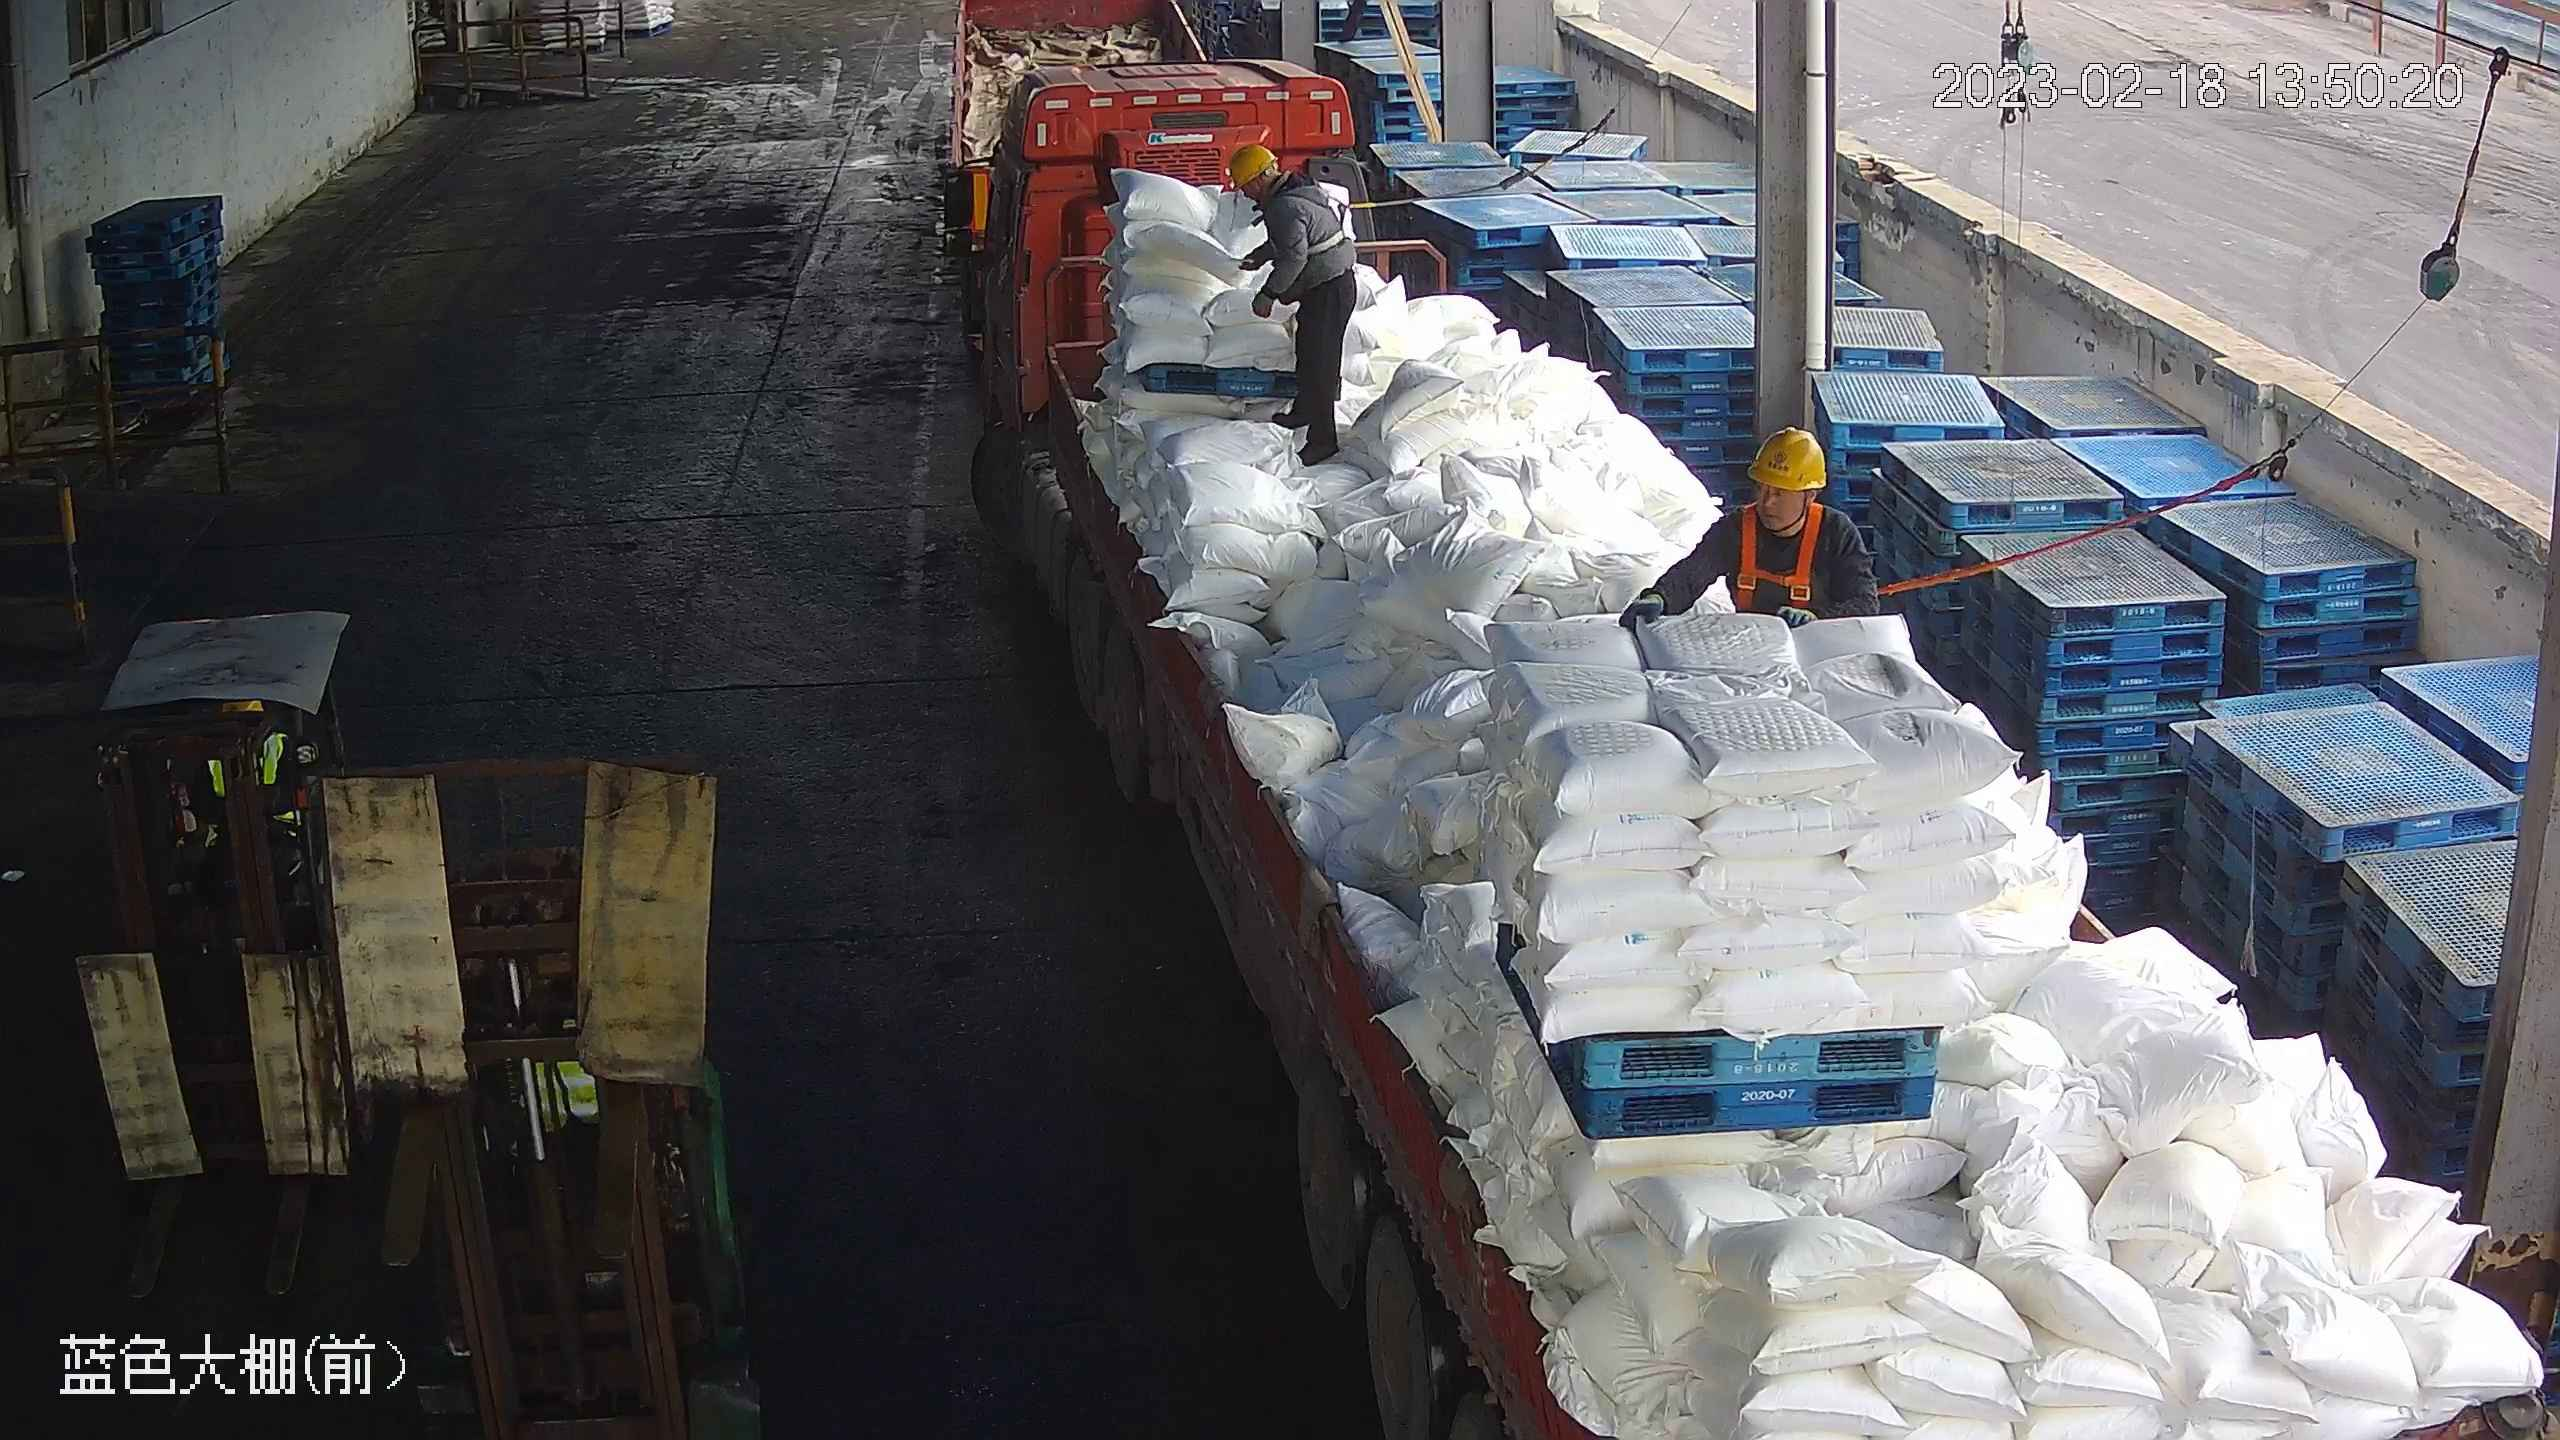belt: (1725, 495, 1899, 615), (1279, 170, 1362, 253)
head: (1704, 422, 1866, 571), (1224, 141, 1333, 234)
helmet: (1749, 424, 1828, 491), (1226, 139, 1276, 188)
people: (1225, 143, 1360, 468)
truck: (950, 47, 2552, 1439)
